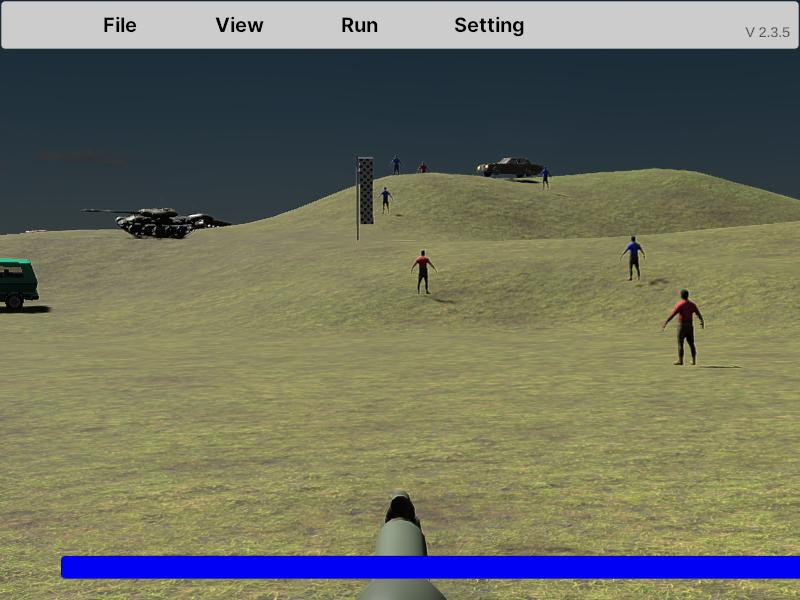Human: (662, 288, 704, 366), (663, 288, 704, 366), (621, 235, 645, 282)
Tank: (82, 207, 200, 239)
car: (0, 257, 40, 312), (0, 257, 38, 312), (476, 156, 548, 181)
